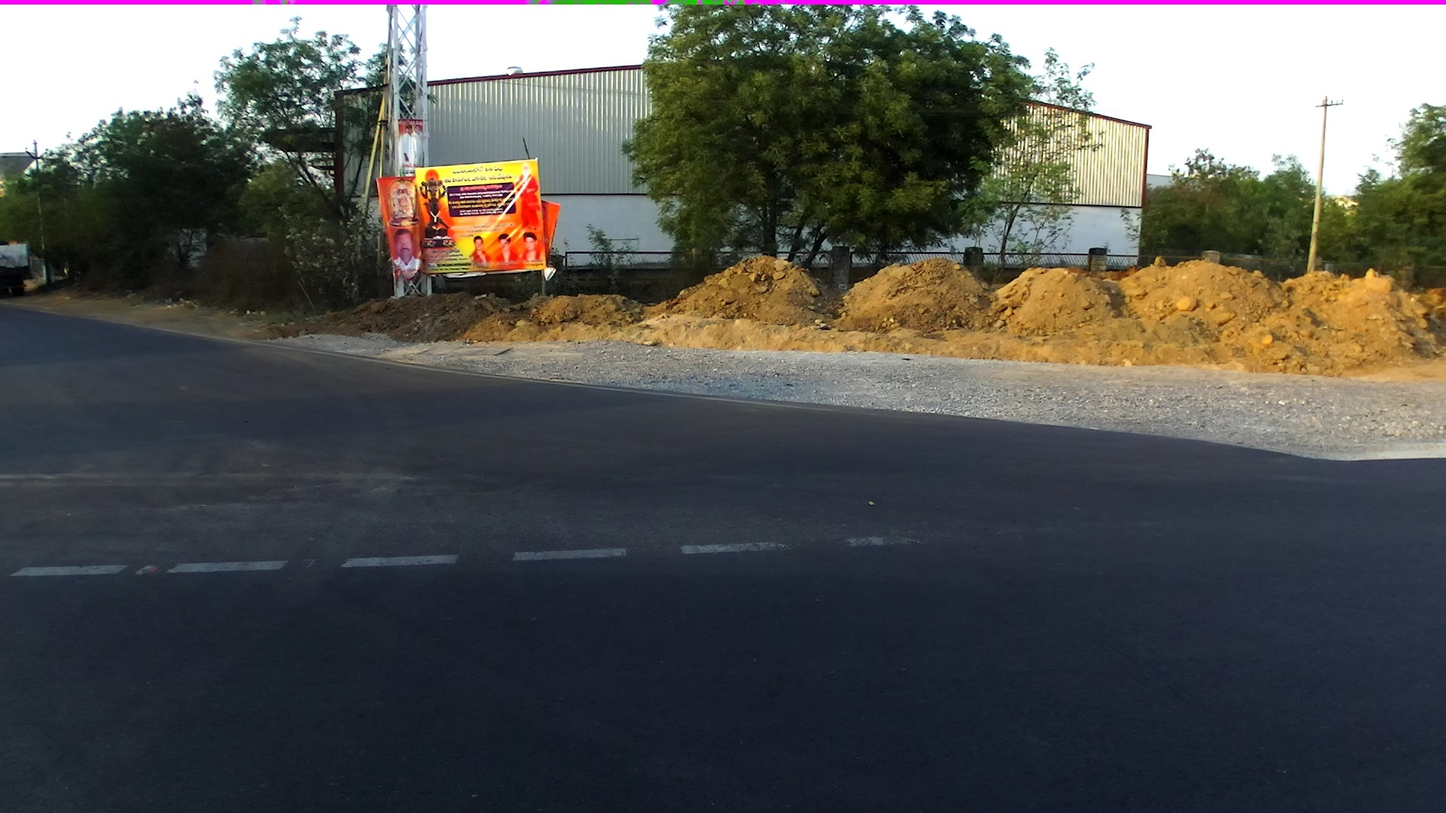truck: (1, 242, 32, 301)
